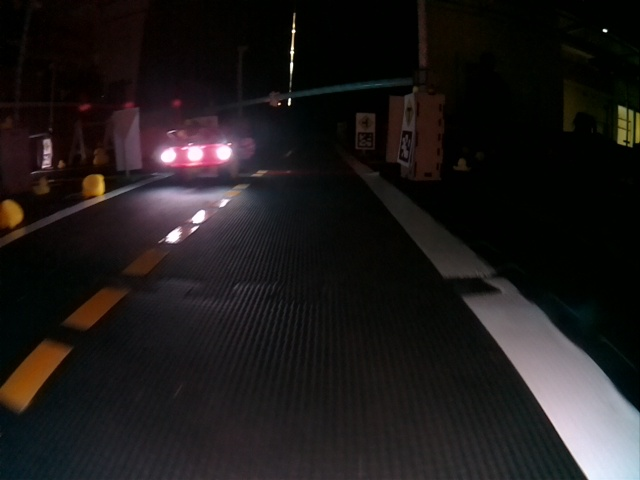Duckie: (2, 199, 21, 229), (82, 175, 103, 196), (34, 178, 50, 195), (454, 158, 471, 171)
Duckiebot: (162, 130, 242, 179)
Intersection sign: (403, 97, 414, 124), (357, 115, 374, 131)
QR code: (398, 130, 413, 166), (358, 134, 374, 149)
Traffic light: (270, 92, 281, 107)
